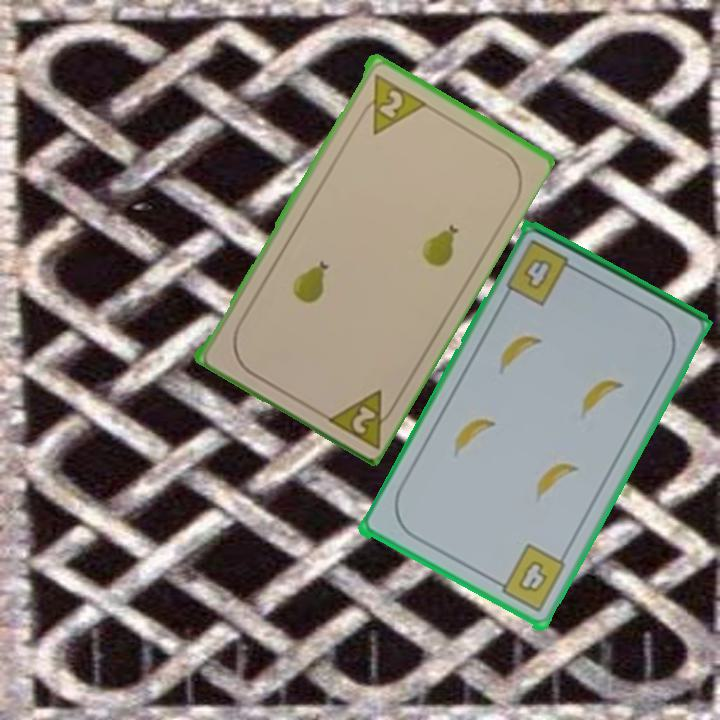2p: (320, 384, 402, 451), (354, 69, 427, 137)
4b: (489, 541, 569, 616), (502, 236, 582, 309)
